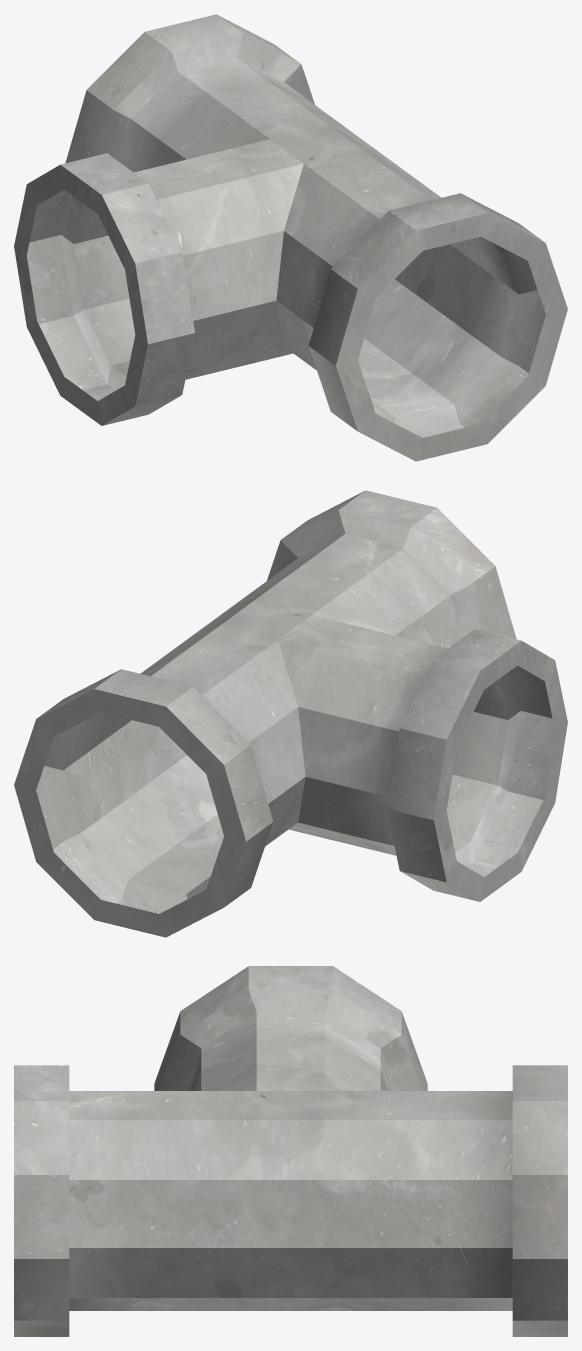
Rendered from PipeThreeWay.fbx.
3 views of the same model, one above another, from view 1: azimuth 30°, elevation 25°; view 2: azimuth 150°, elevation 25°; view 3: azimuth 270°, elevation 25° (orthographic). The views are drawn at different scales.
Parts seen in each view (by area): view 1: pCylinder5; view 2: pCylinder5; view 3: pCylinder5.
Boxes of the visible parts, bbox=[...] form: pCylinder5: bbox=[14, 14, 567, 461]; pCylinder5: bbox=[14, 490, 567, 937]; pCylinder5: bbox=[14, 966, 567, 1336].
Size of the model in its own units: 0.7469 by 0.4697 by 1.
